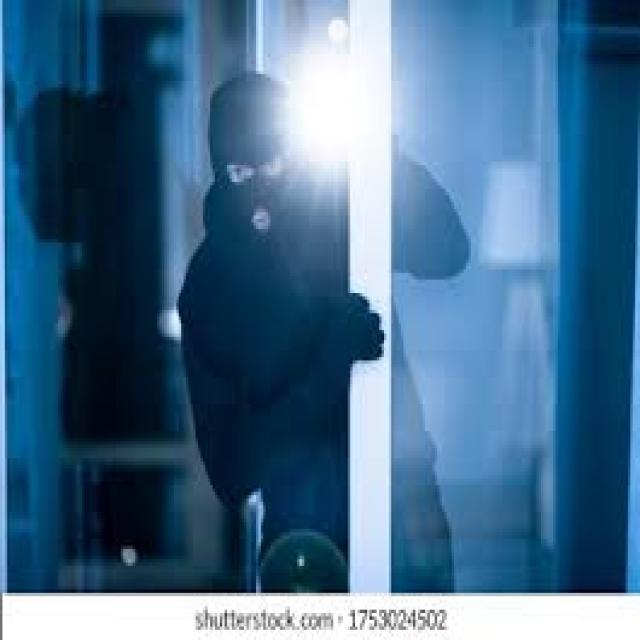intrusion detected: (174, 68, 466, 598)
